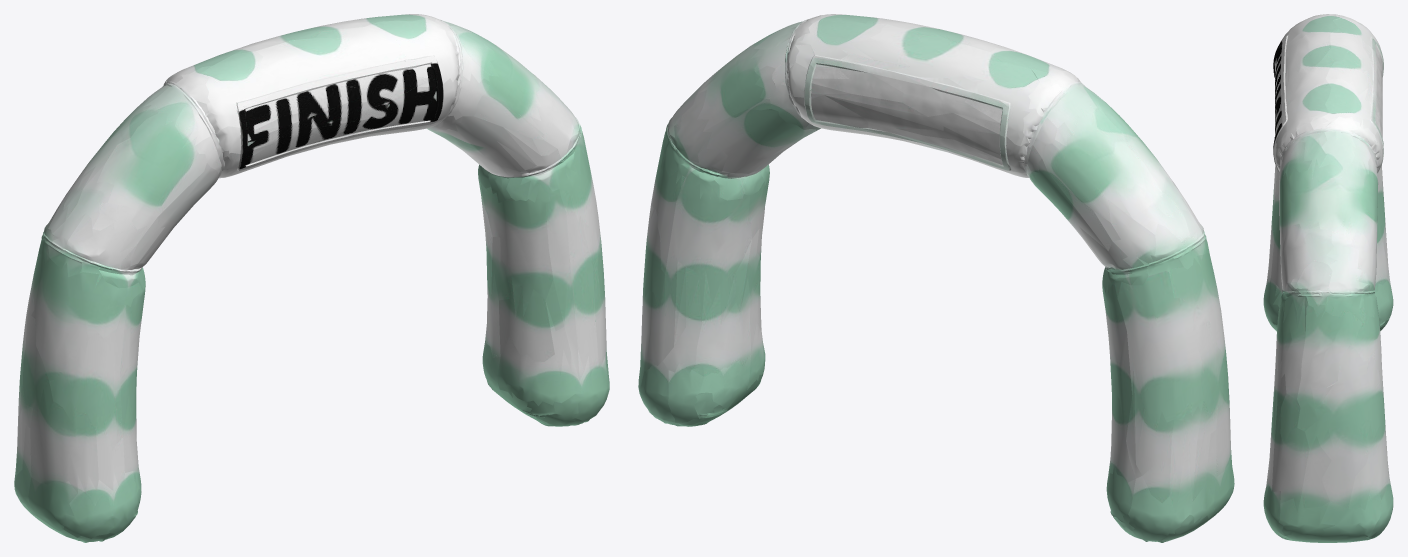
File: finish-arch.glb
The picture shows the model from 3 angles, left to right: view 1: azimuth 30°, elevation 25°; view 2: azimuth 150°, elevation 25°; view 3: azimuth 270°, elevation 25°; orthographic projection. The views are drawn at different scales.
Parts seen in each view (by area): view 1: mesh_node; view 2: mesh_node; view 3: mesh_node.
Part boxes in pixels (bbox=[...]): mesh_node: bbox=[14, 14, 609, 542]; mesh_node: bbox=[638, 14, 1234, 542]; mesh_node: bbox=[1263, 14, 1393, 542].
Size of the model in its own units: 1.9 by 1.4 by 0.4335.
1 material, 1 textured.
